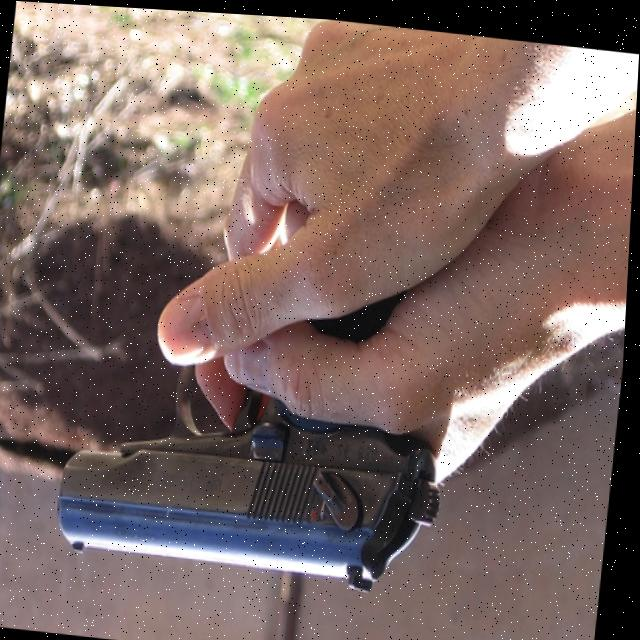pistol: (57, 349, 459, 589)
